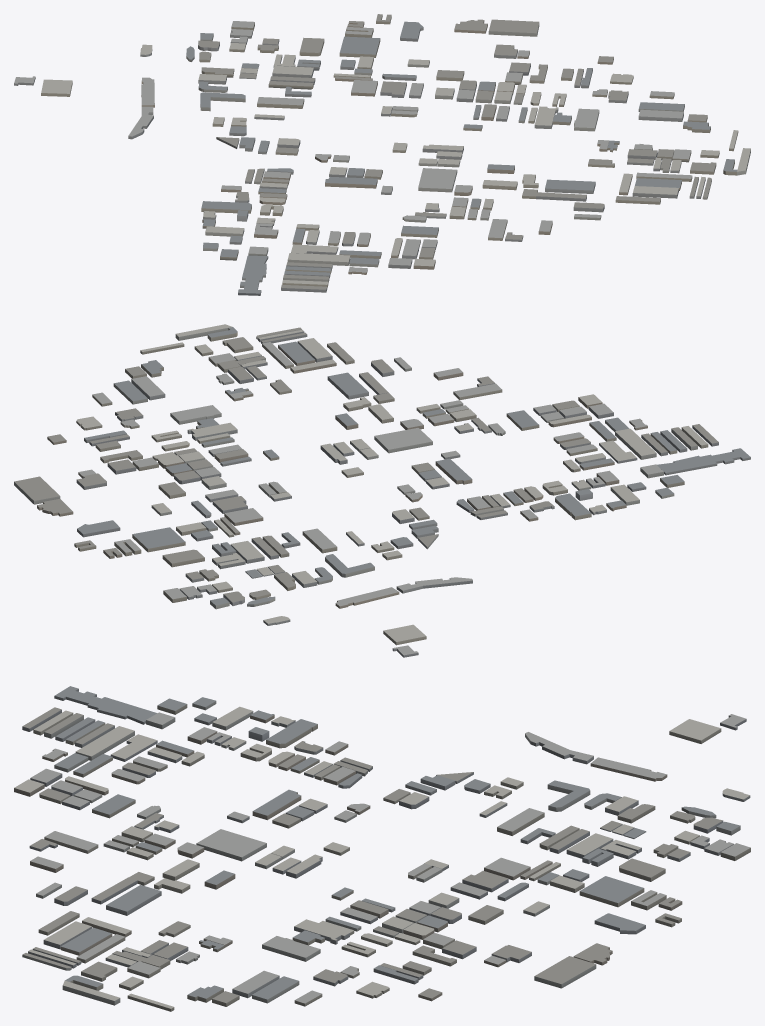
Rendered from bld_10_6.fbx.
3 views of the same model, one above another, from view 1: azimuth 30°, elevation 25°; view 2: azimuth 150°, elevation 25°; view 3: azimuth 270°, elevation 25° (orthographic). The views are drawn at different scales.
Visible parts, largest first — view 1: bld_10_6_LOD0; view 2: bld_10_6_LOD0; view 3: bld_10_6_LOD0.
Part boxes in pixels (x1,y1,x2,y2): bld_10_6_LOD0: [14, 14, 750, 295]; bld_10_6_LOD0: [14, 324, 750, 657]; bld_10_6_LOD0: [14, 686, 750, 1011].
Size of what is drawn, in the model's own units: 2107 by 20.28 by 2031.
